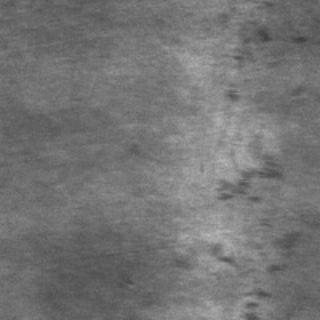rolled pit: (207, 152, 296, 318), (220, 14, 300, 102)
